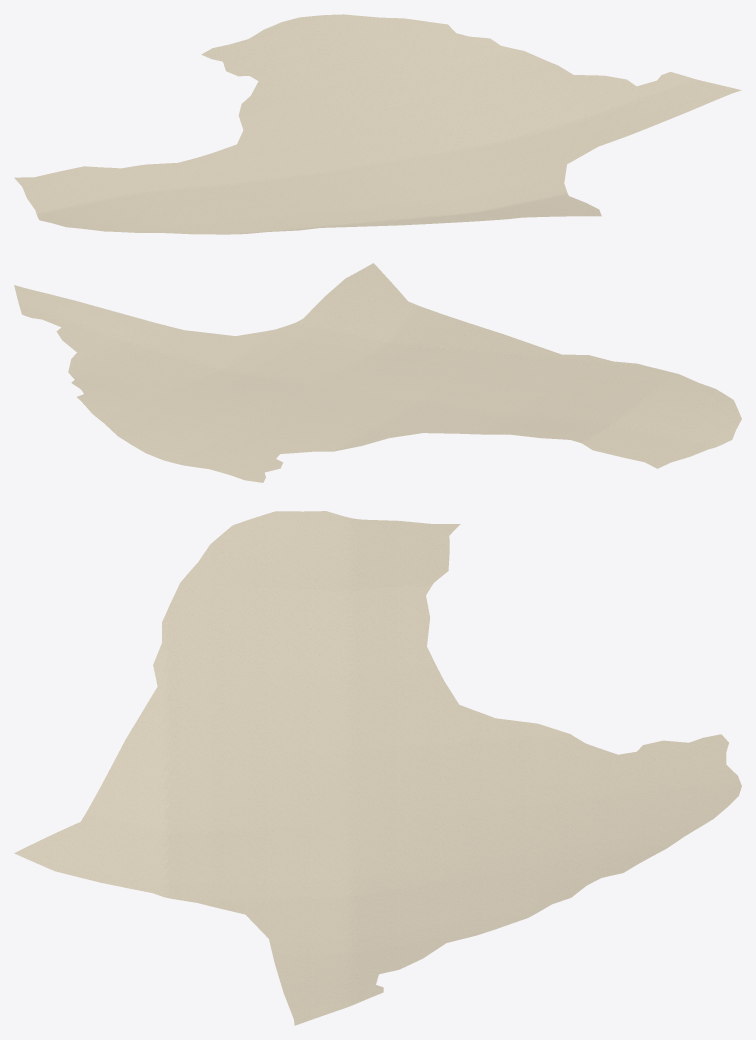
The model's file is sportsground.glb.
3 views of the same model, one above another, from view 1: azimuth 30°, elevation 25°; view 2: azimuth 150°, elevation 25°; view 3: azimuth 270°, elevation 25° (orthographic). The views are drawn at different scales.
Size of the model in its own units: 208 by 14.88 by 135.
Materials: 1 (1 with a texture image).
